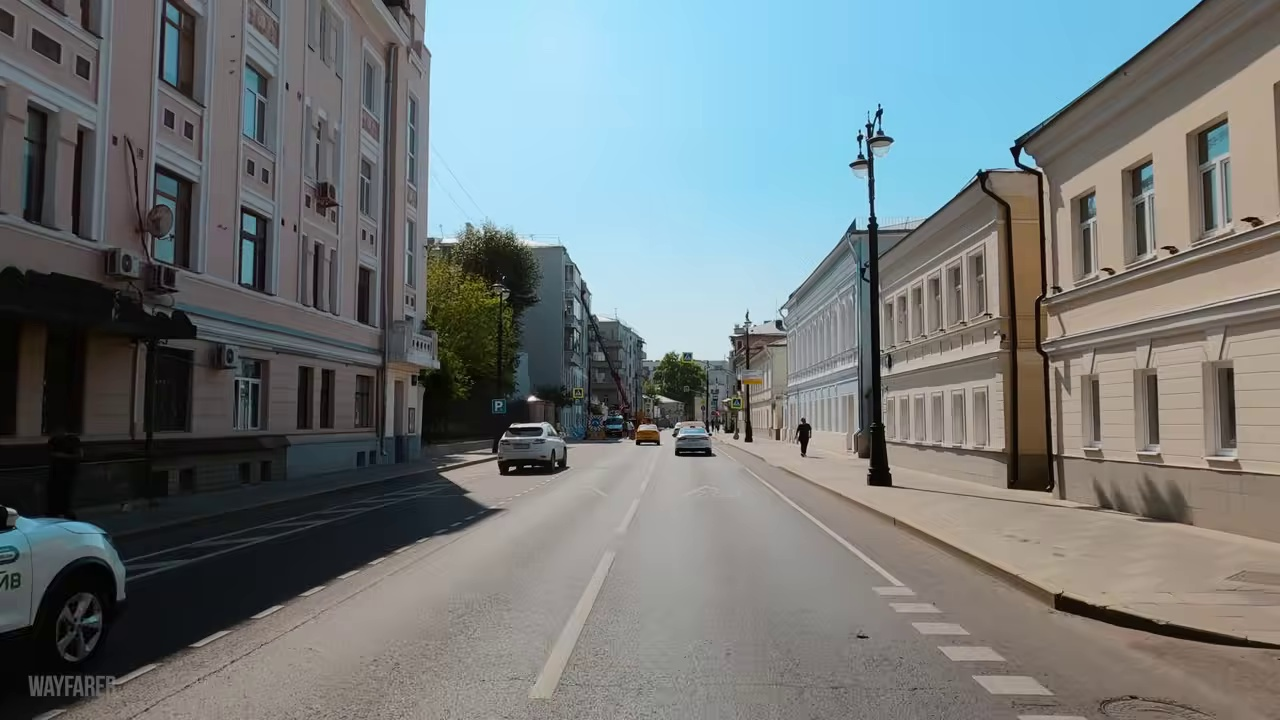apagada: (846, 122, 896, 179)
